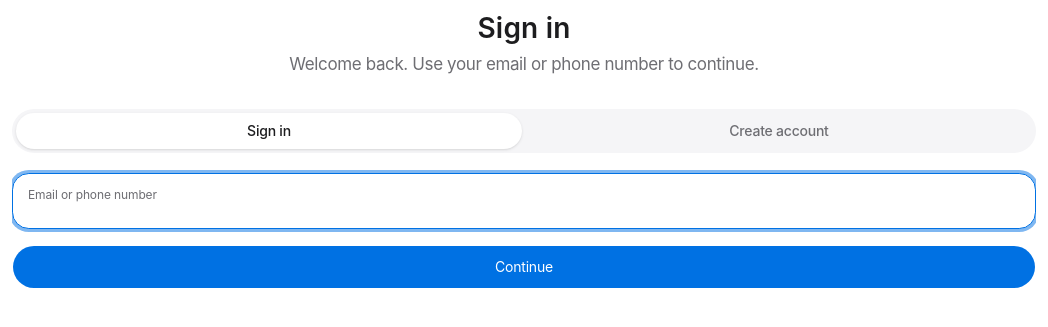
Test case: SignInFlow: the first step › sends a Mongolian number without a country code to +976
Type "8017 2121" into the field labelled "Email or phone number" at (524, 201), box [12,173,1036,229]
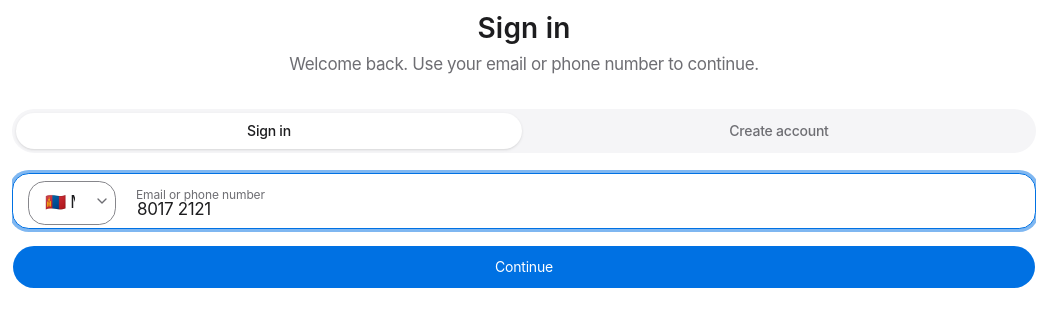
Click the button "Continue" at (524, 267), box [12,245,1036,289]
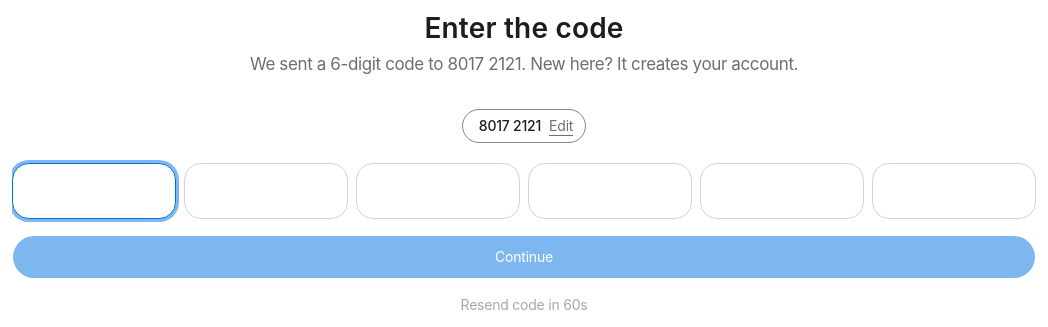
Expected: the text "We sent a 6-digit code" is shown, [250,54,798,74]
